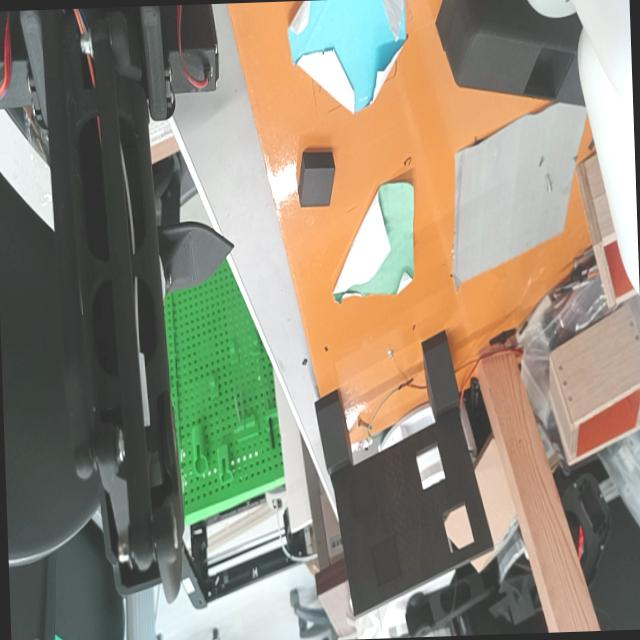Obstacle: (442, 503, 473, 555), (415, 445, 445, 492)
Wall: (333, 410, 494, 618)
